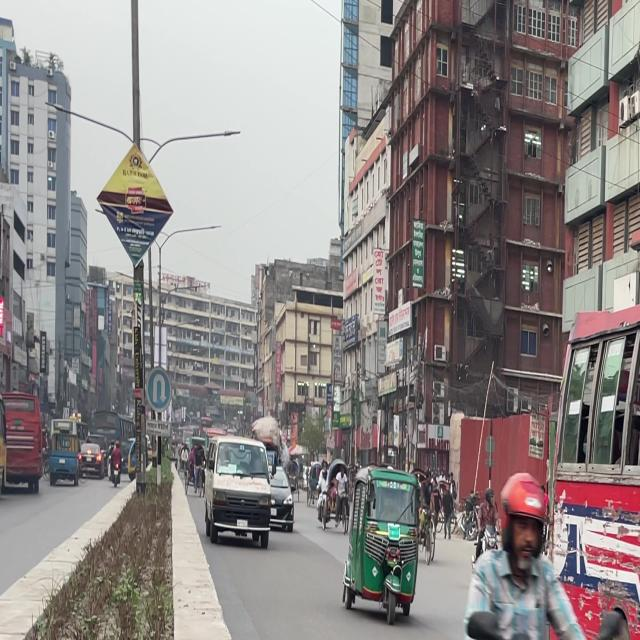bus: (549, 131, 640, 640)
car: (196, 427, 297, 546)
rickshaw: (340, 456, 432, 638)
